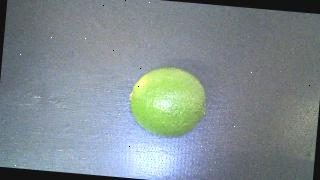EXPORTACION: (126, 64, 209, 140)
